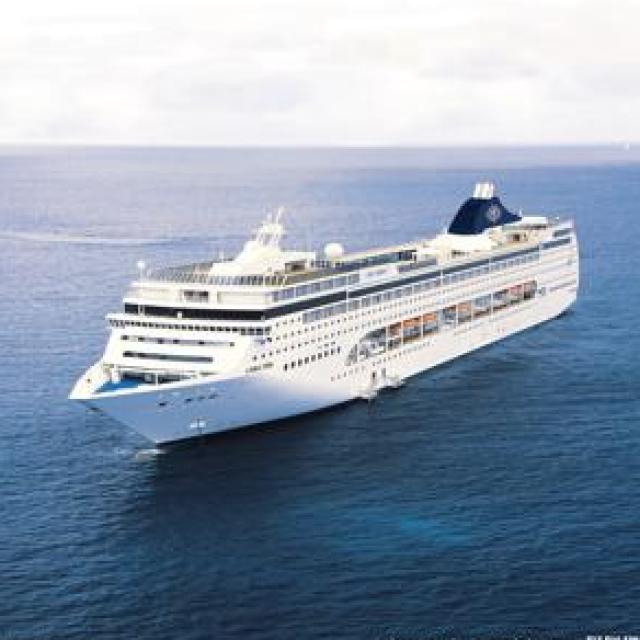passenger ship: (68, 174, 584, 444)
